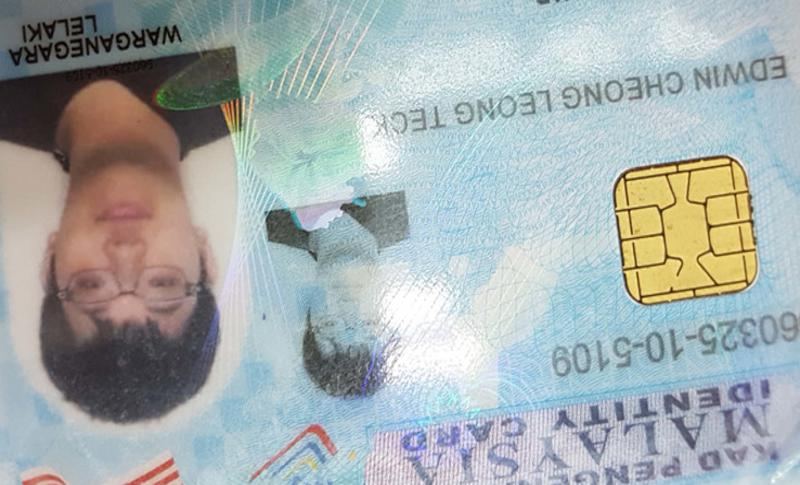hologramB: (235, 2, 371, 195)
